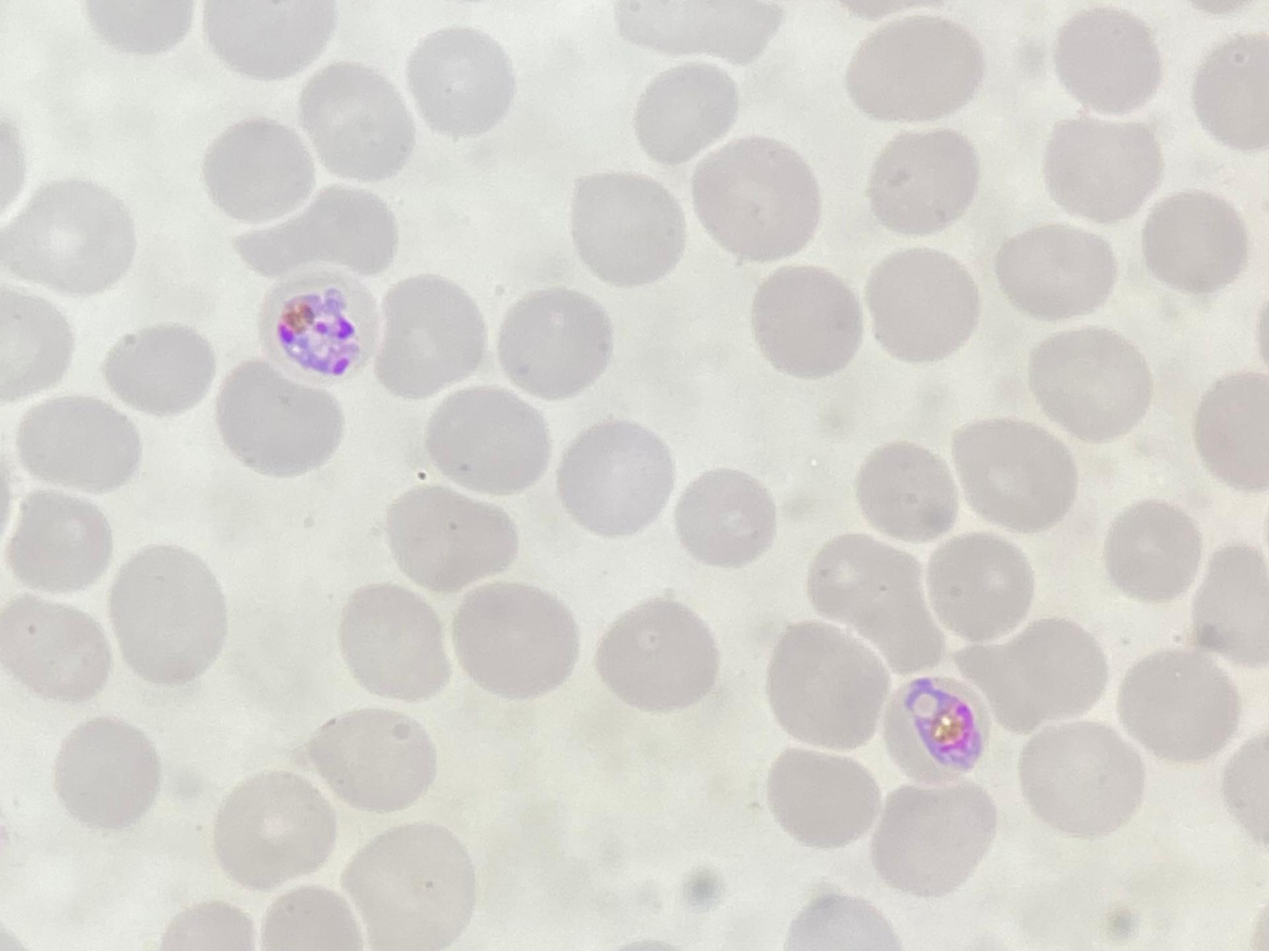Infected: (890, 567, 1012, 683), (278, 165, 382, 278)
Uninfected: (327, 274, 467, 415), (1041, 264, 1162, 403), (161, 218, 305, 334), (443, 688, 575, 812), (378, 199, 504, 328), (791, 2, 919, 126), (872, 670, 1035, 767), (1131, 654, 1262, 773), (690, 247, 815, 371), (189, 417, 319, 535), (280, 827, 419, 937), (115, 507, 243, 626), (923, 473, 1052, 590), (269, 52, 398, 169), (749, 357, 881, 471), (590, 415, 709, 539), (931, 61, 1055, 180), (27, 187, 150, 305), (124, 111, 249, 226), (555, 234, 671, 356), (831, 137, 960, 245), (581, 663, 699, 781), (286, 586, 404, 704), (852, 767, 969, 886), (816, 249, 931, 369), (105, 725, 228, 836), (403, 572, 520, 687), (784, 547, 889, 674), (718, 459, 843, 562), (752, 811, 866, 923), (286, 714, 403, 823), (1105, 120, 1217, 231), (948, 724, 1062, 833), (1155, 244, 1269, 353), (232, 308, 344, 418), (384, 102, 504, 204), (148, 630, 270, 730), (105, 834, 219, 941), (659, 549, 770, 658), (1128, 457, 1249, 556), (1152, 357, 1263, 462), (21, 654, 128, 760), (527, 786, 636, 890), (309, 407, 416, 510), (490, 382, 596, 482), (64, 346, 166, 449), (1052, 535, 1163, 629), (927, 871, 1063, 946), (0, 457, 79, 579), (1, 796, 80, 917), (1, 285, 80, 405), (1196, 548, 1269, 663)
